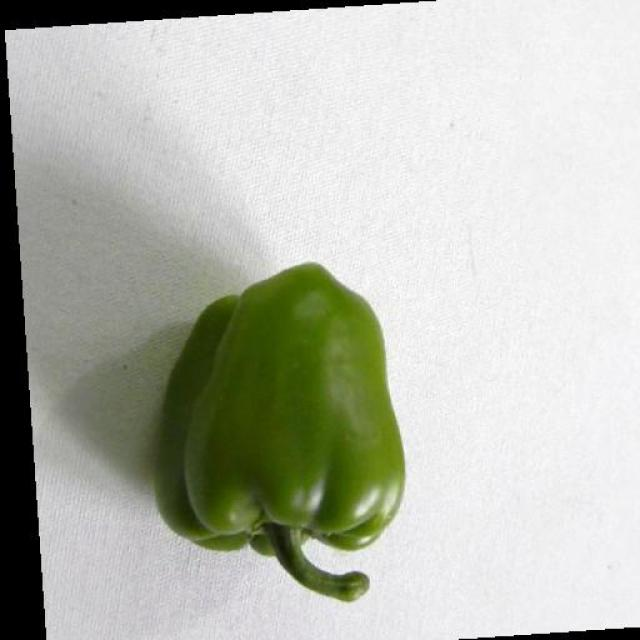Fresh_Capsicum: (173, 265, 426, 598)
